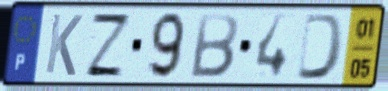4: (253, 11, 291, 81)
9: (145, 10, 187, 81)
B: (187, 11, 241, 80)
D: (294, 12, 347, 82)
K: (42, 12, 85, 79)
Z: (82, 10, 135, 79)
